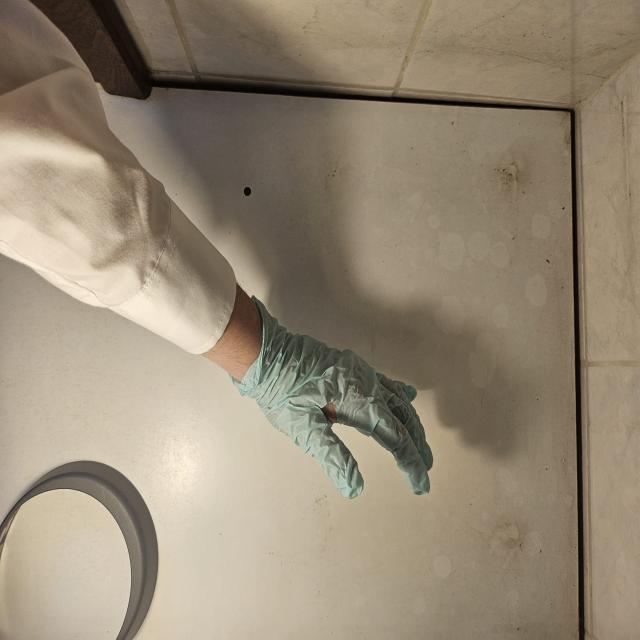gloves_damaged: (246, 298, 436, 503)
